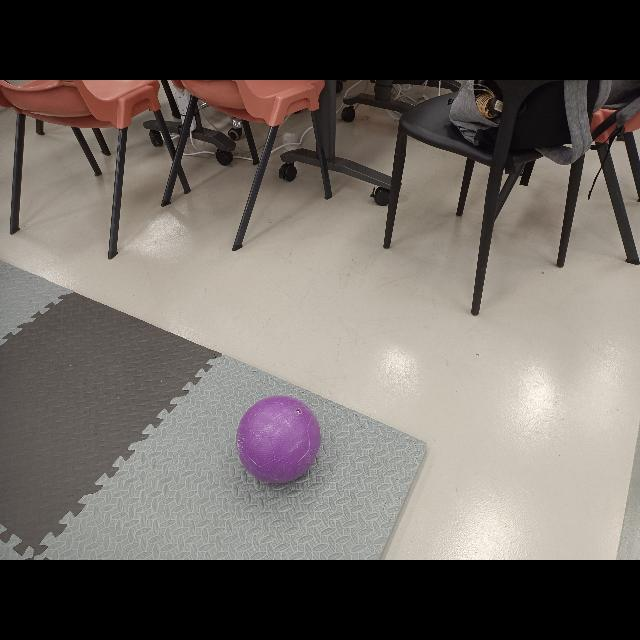P: (236, 395, 322, 485)
